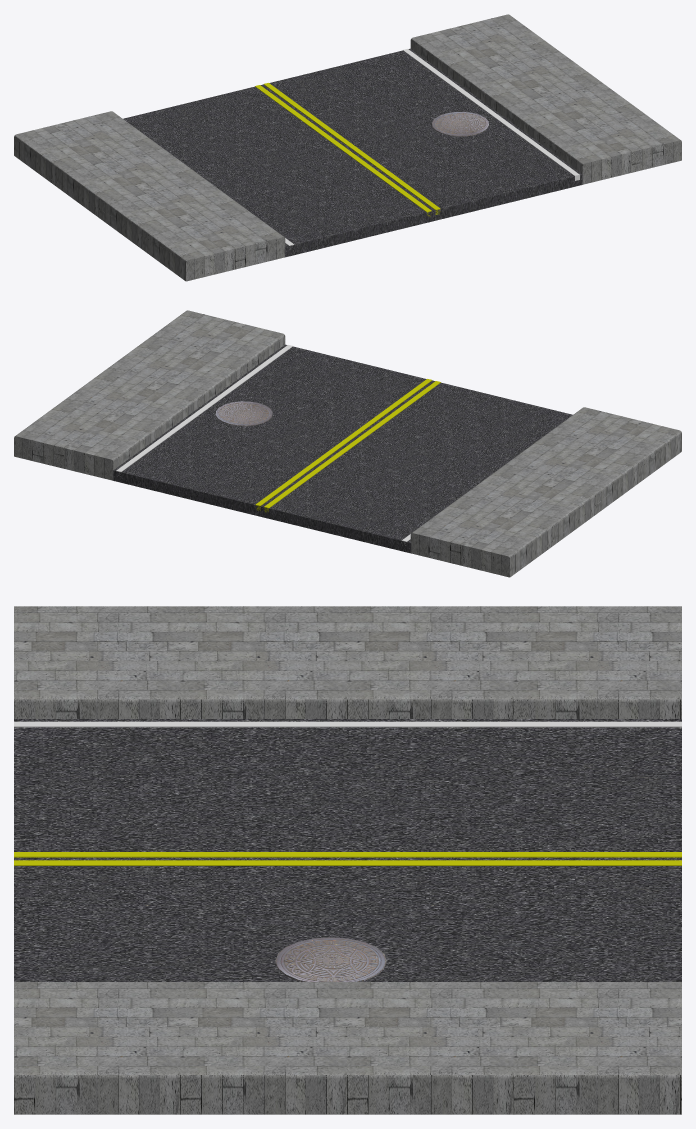
File: Yellow & White Lines & Manhole Street.fbx
The picture shows the model from 3 angles, top to bottom: view 1: azimuth 30°, elevation 25°; view 2: azimuth 150°, elevation 25°; view 3: azimuth 270°, elevation 25°; orthographic projection. The views are drawn at different scales.
Visible parts, largest first — view 1: pCube1, pasted__pasted__pCube1, pasted__pCube1, pCylinder1, pasted__pasted__pasted__pasted__pCube2, pasted__pCube2, pCube2; view 2: pCube1, pasted__pasted__pCube1, pasted__pCube1, pCylinder1, pasted__pCube2, pCube2, pasted__pasted__pasted__pasted__pCube2; view 3: pCube1, pasted__pCube1, pasted__pasted__pCube1, pasted__pasted__pasted__pCube2, pCylinder1, pCube2, pasted__pCube2.
Part boxes in pixels (x1,y1,x2,y2): pCube1: (123, 48, 582, 257); pasted__pasted__pCube1: (14, 111, 285, 281); pasted__pCube1: (410, 14, 681, 184); pCylinder1: (432, 112, 488, 136); pasted__pasted__pasted__pasted__pCube2: (403, 49, 579, 180); pasted__pCube2: (263, 83, 440, 214); pCube2: (255, 85, 431, 216); pCube1: (113, 344, 572, 553); pasted__pasted__pCube1: (410, 407, 681, 577); pasted__pCube1: (14, 310, 285, 480); pCylinder1: (215, 401, 272, 426); pasted__pCube2: (255, 379, 432, 510); pCube2: (264, 381, 440, 512); pasted__pasted__pasted__pasted__pCube2: (116, 345, 292, 476); pCube1: (14, 719, 681, 981); pasted__pCube1: (14, 982, 681, 1114); pasted__pasted__pCube1: (14, 606, 681, 718); pasted__pasted__pasted__pCube2: (14, 721, 681, 727); pCylinder1: (275, 937, 386, 981); pCube2: (14, 852, 681, 857); pasted__pCube2: (14, 860, 681, 865).
Bounding box in the file's own units: 9.99 × 0.401 × 6.
Materials: 8 (4 with a texture image).
